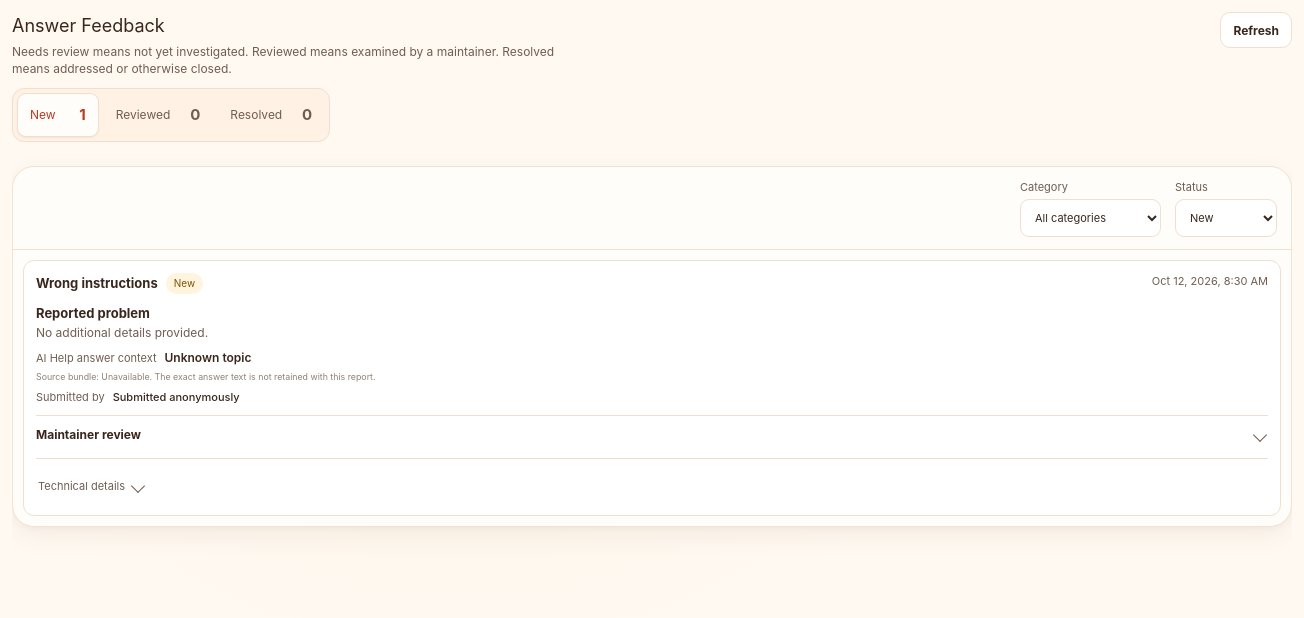
it: AnswerFeedbackWorkspace › shows a neutral note and safe fallbacks for missing topic or bundle data
The image size is (1304, 618).
Check: the text "No additional details provided." is shown, box left=36, top=325, right=208, bottom=340
Check: the text "Unknown topic" is shown, box left=164, top=349, right=252, bottom=367
Click the heading "Technical details" at (92, 481), box left=36, top=459, right=148, bottom=503
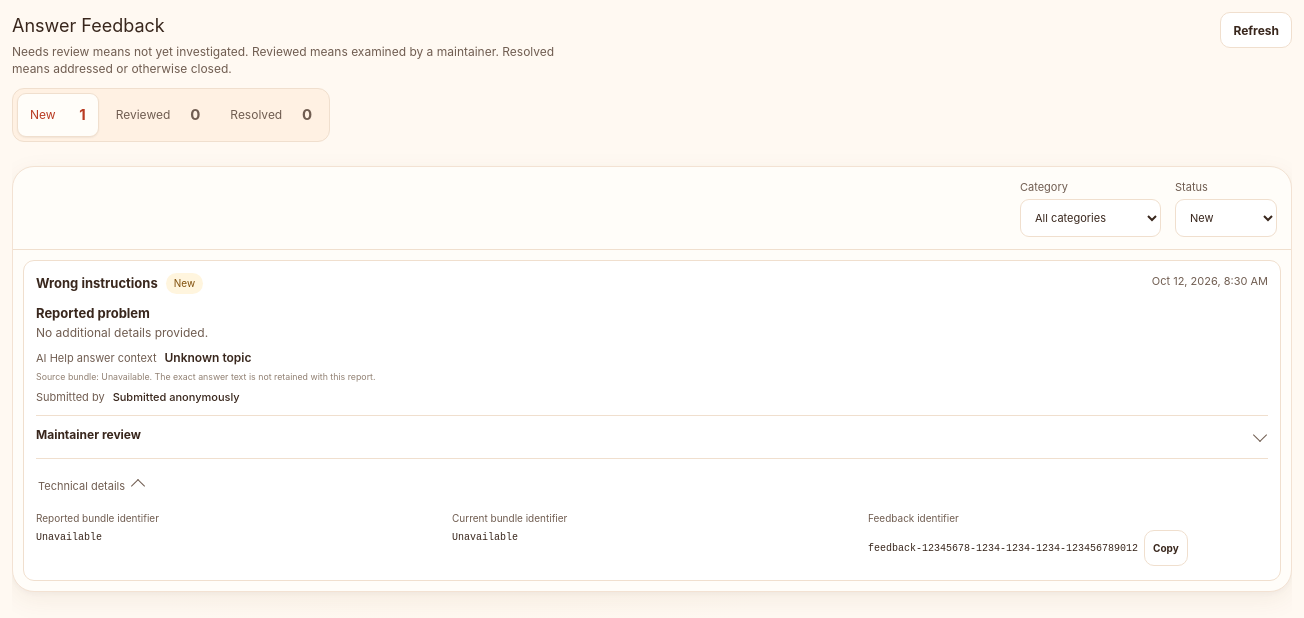
Check: the text "Unavailable" is shown 2 times, box left=36, top=530, right=102, bottom=545; left=452, top=530, right=518, bottom=545
